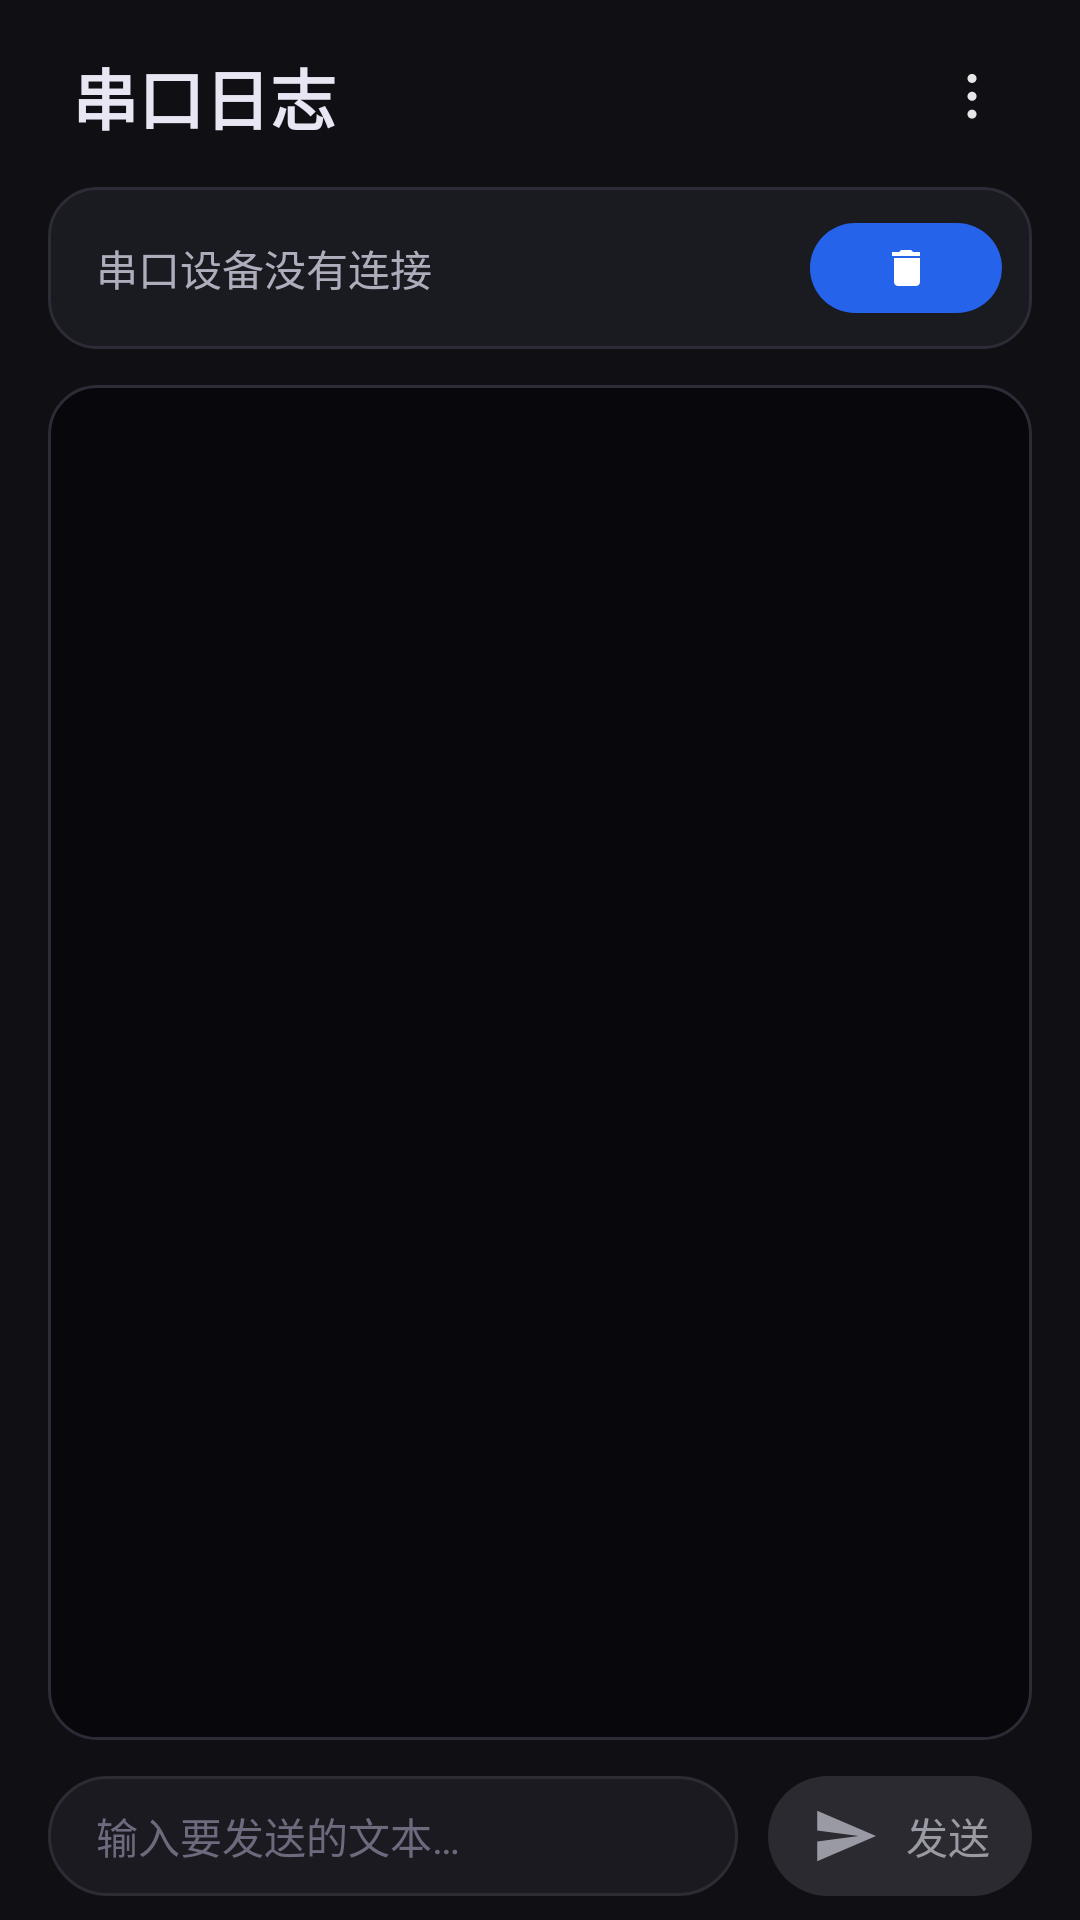

Screen size 1080px x 1920px. Icon name, then its center in pixels as [x,y]:
更多: [972,96]
清屏: [906,268]
